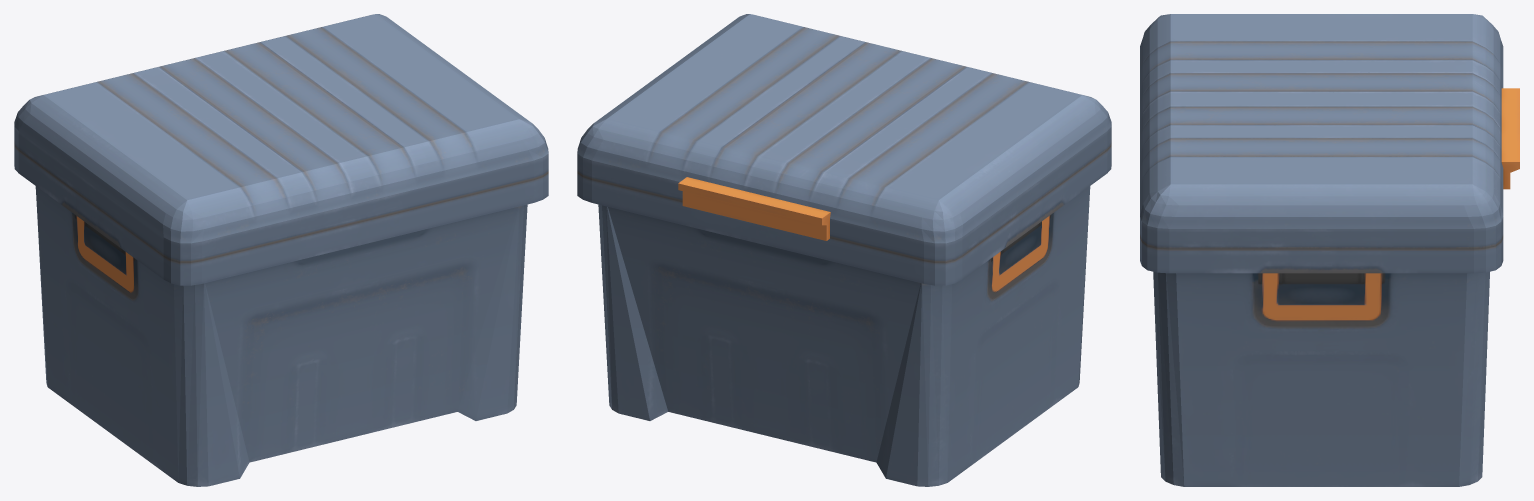
The model's file is P_Toolbox_005_S1_M01.obj.
3 renders of one model, left to right at view 1: azimuth 30°, elevation 25°; view 2: azimuth 150°, elevation 25°; view 3: azimuth 270°, elevation 25°, orthographic. The views are drawn at different scales.
Size of the model in its own units: 0.9096 by 0.6554 by 0.7488.
Materials: 1 (1 with a texture image).
